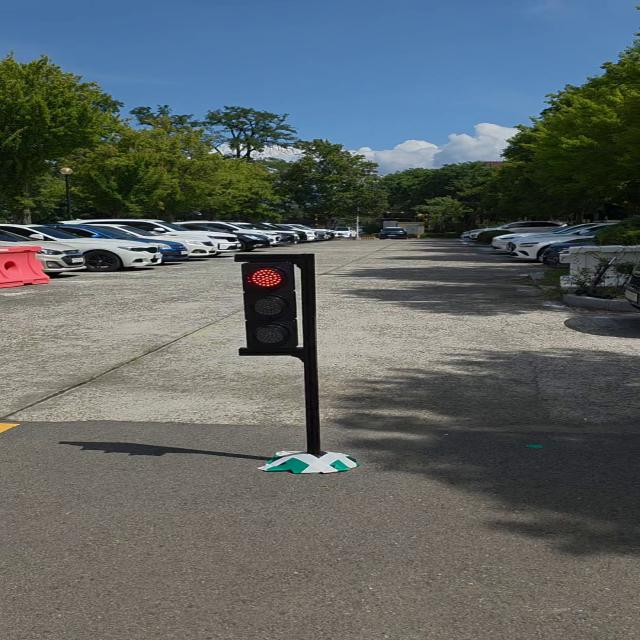red: (227, 255, 311, 358)
